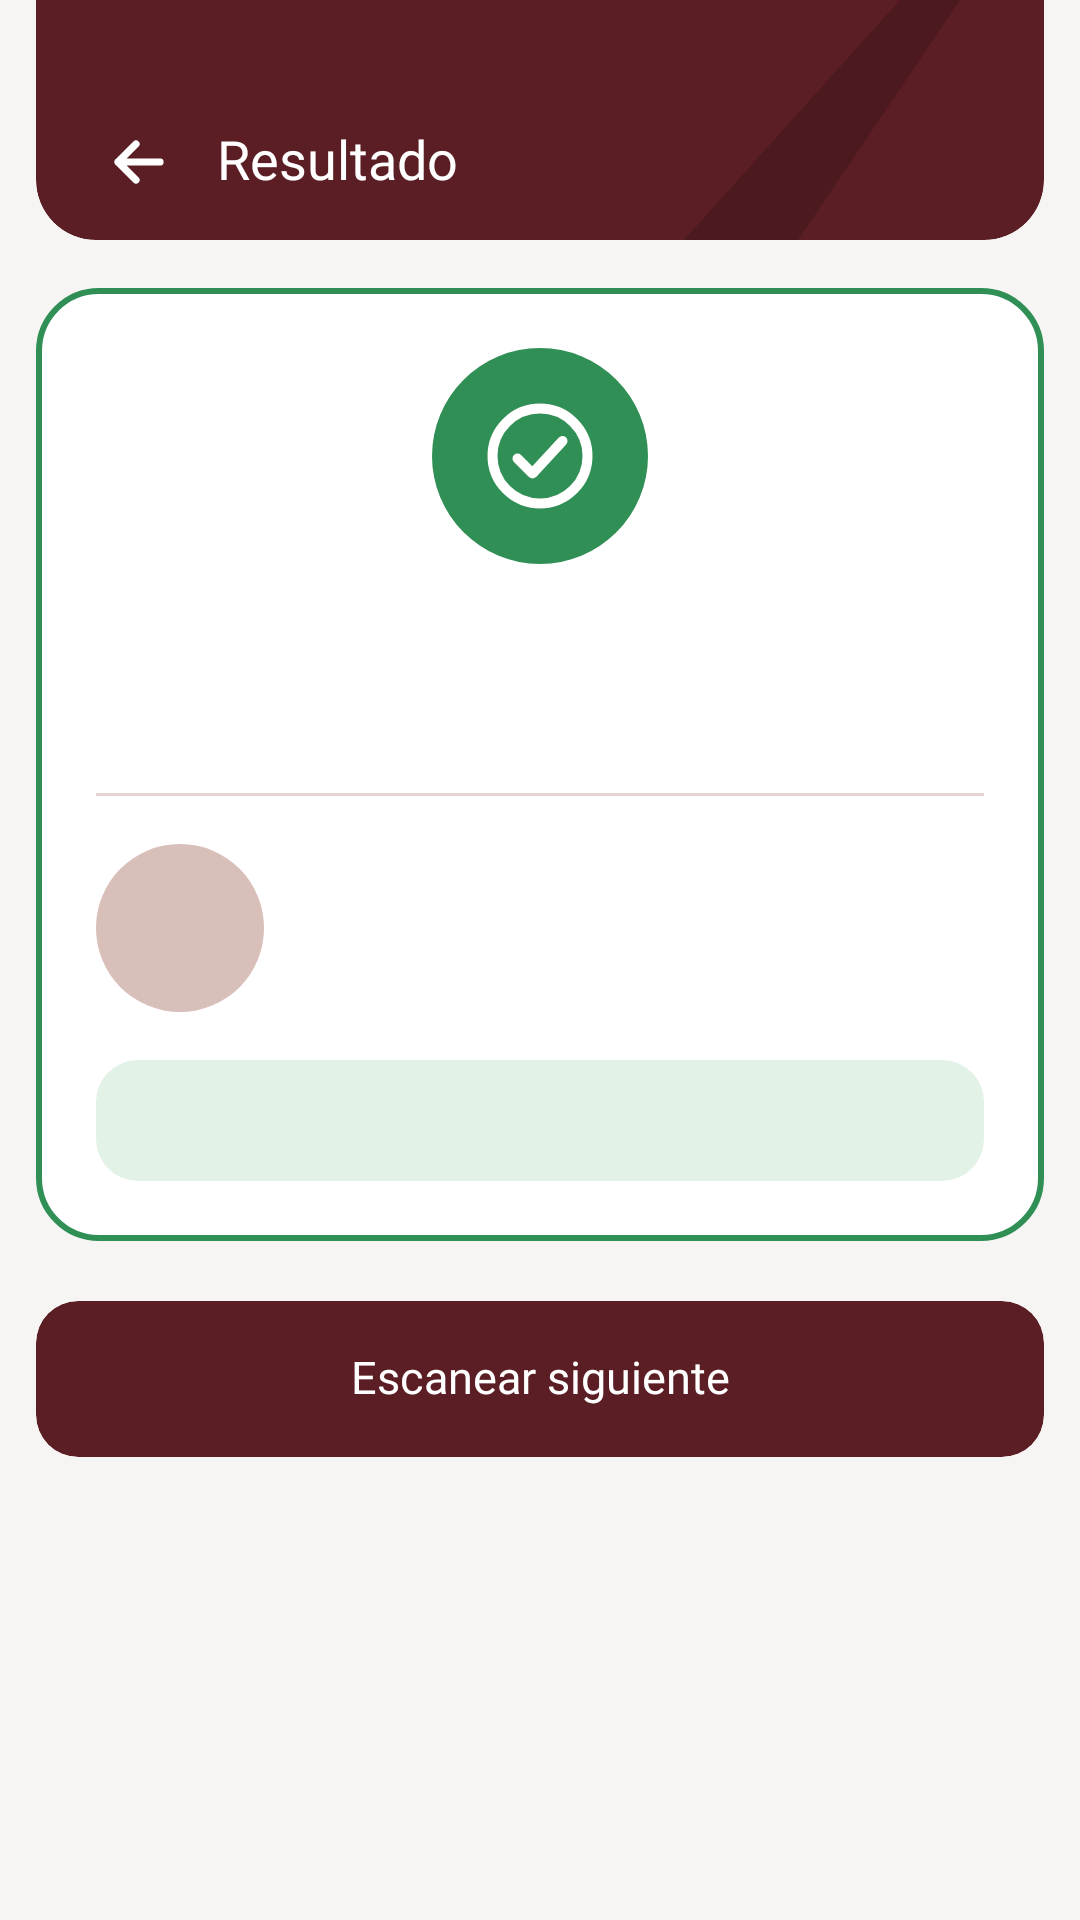

Screen size 1080px x 1920px. Icon name, then its center in pixels as (x,y):
check circle: (540,456)
